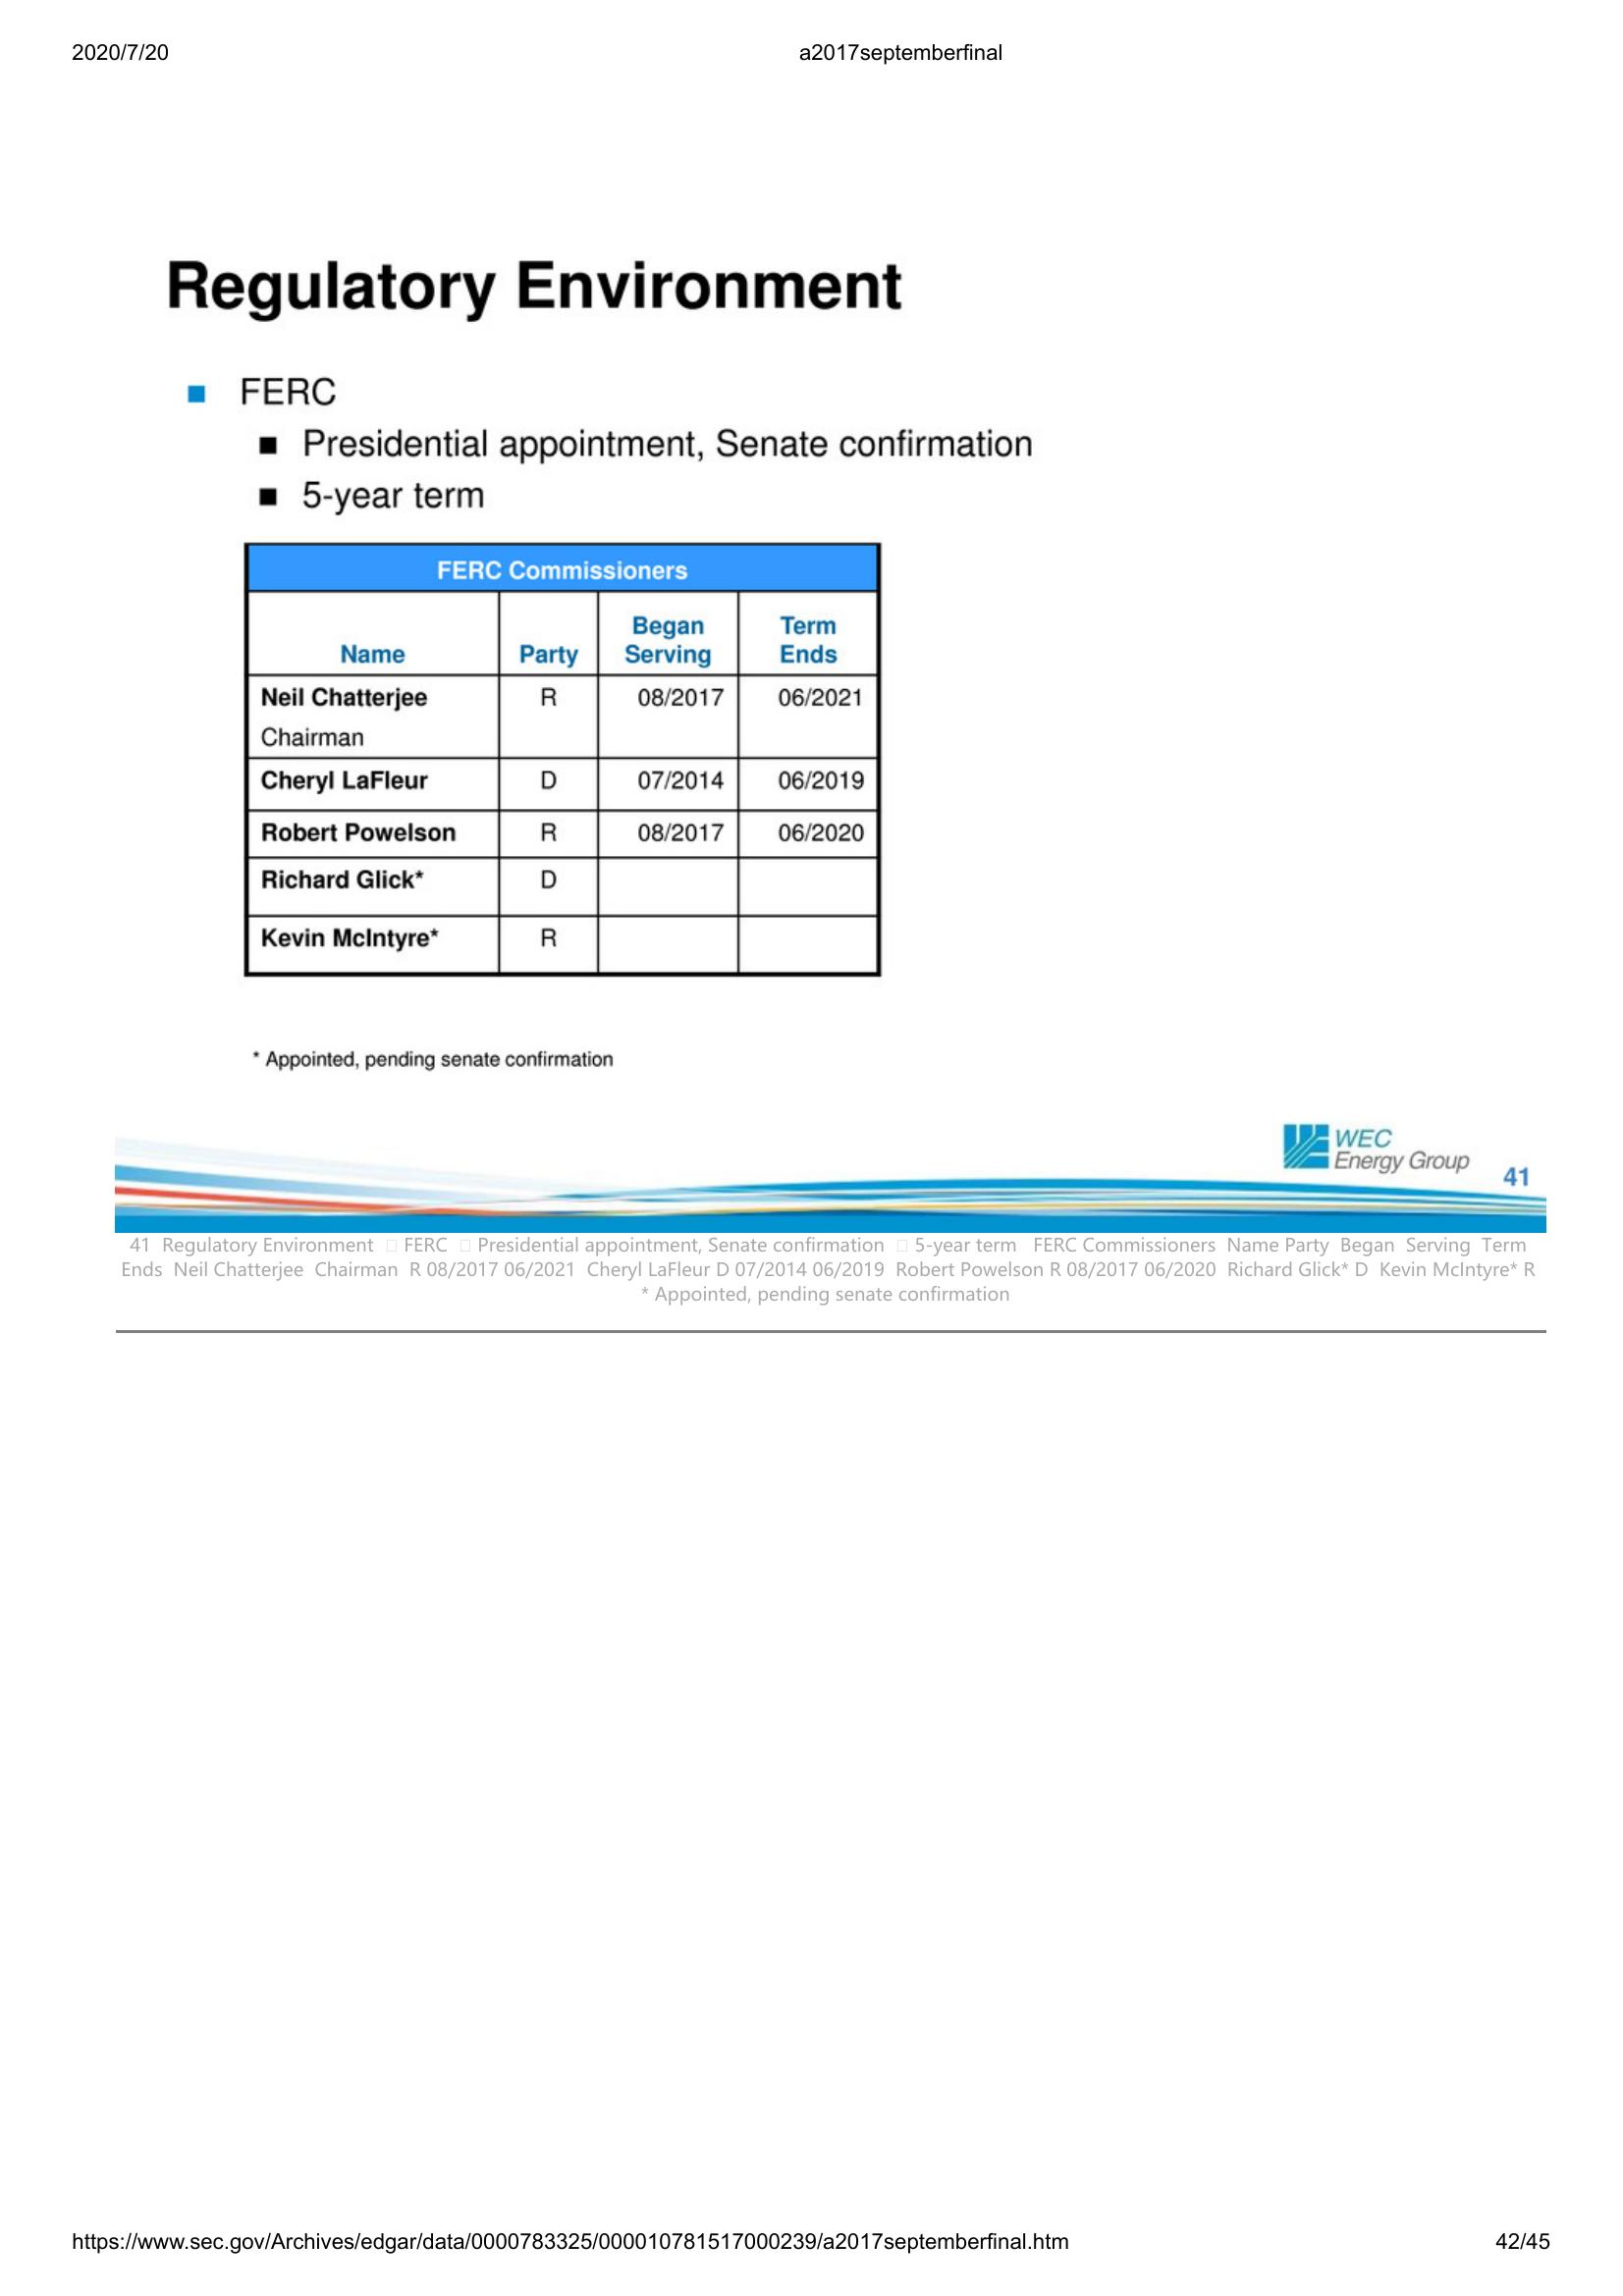table: (237, 535, 885, 983)
